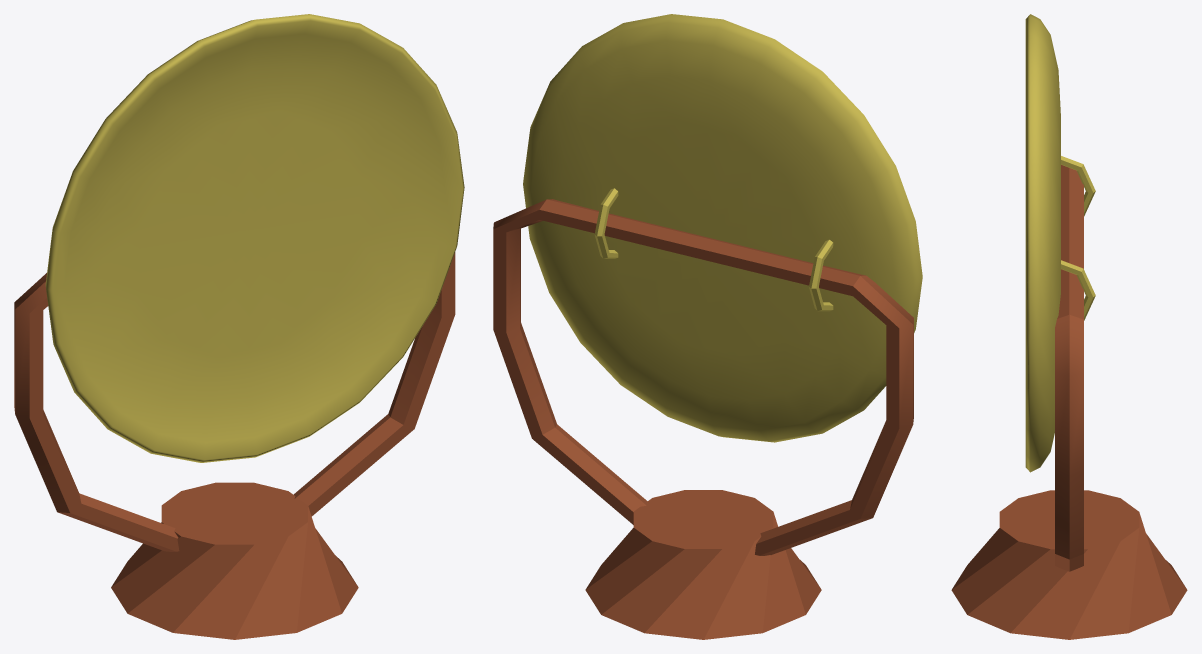
Rendered from gold_plate_v.fbx.
The picture shows the model from 3 angles, left to right: view 1: azimuth 30°, elevation 25°; view 2: azimuth 150°, elevation 25°; view 3: azimuth 270°, elevation 25°; orthographic projection. The views are drawn at different scales.
Visible parts, largest first — view 1: plate, stand, holder; view 2: plate, holder, stand, pTorus1, pTorus2; view 3: stand, plate, holder, pTorus2, pTorus1.
Boxes of the visible parts, <box> form: plate: <box>45,14,464,462</box>; stand: <box>111,482,358,639</box>; holder: <box>14,252,455,551</box>; plate: <box>523,14,922,442</box>; holder: <box>493,199,913,555</box>; stand: <box>585,490,821,639</box>; pTorus1: <box>809,239,833,311</box>; pTorus2: <box>594,188,618,258</box>; stand: <box>951,490,1187,639</box>; plate: <box>1025,14,1060,472</box>; holder: <box>1055,165,1083,571</box>; pTorus2: <box>1061,260,1095,320</box>; pTorus1: <box>1061,156,1095,216</box>.
Bounding box in the file's own units: 24.74 × 31.37 × 12.09.
